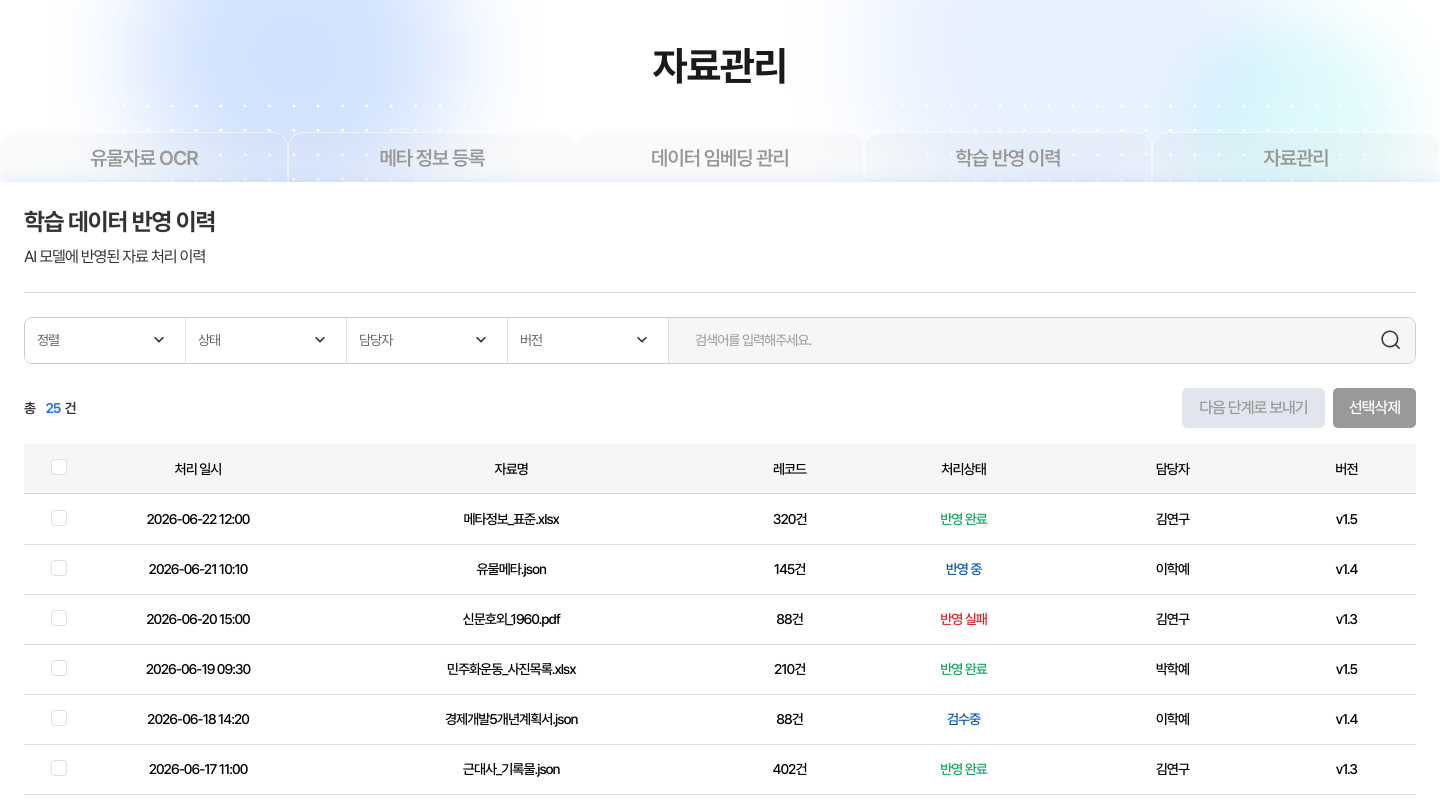
Test: History: 행별 휴지통이 사라지고 툴바 선택삭제로 통합됐다 — 클릭 시 준비중 토스트만(D2a)
Click the checkbox named "선택 l2" at (59, 568), box [51,560,67,576]
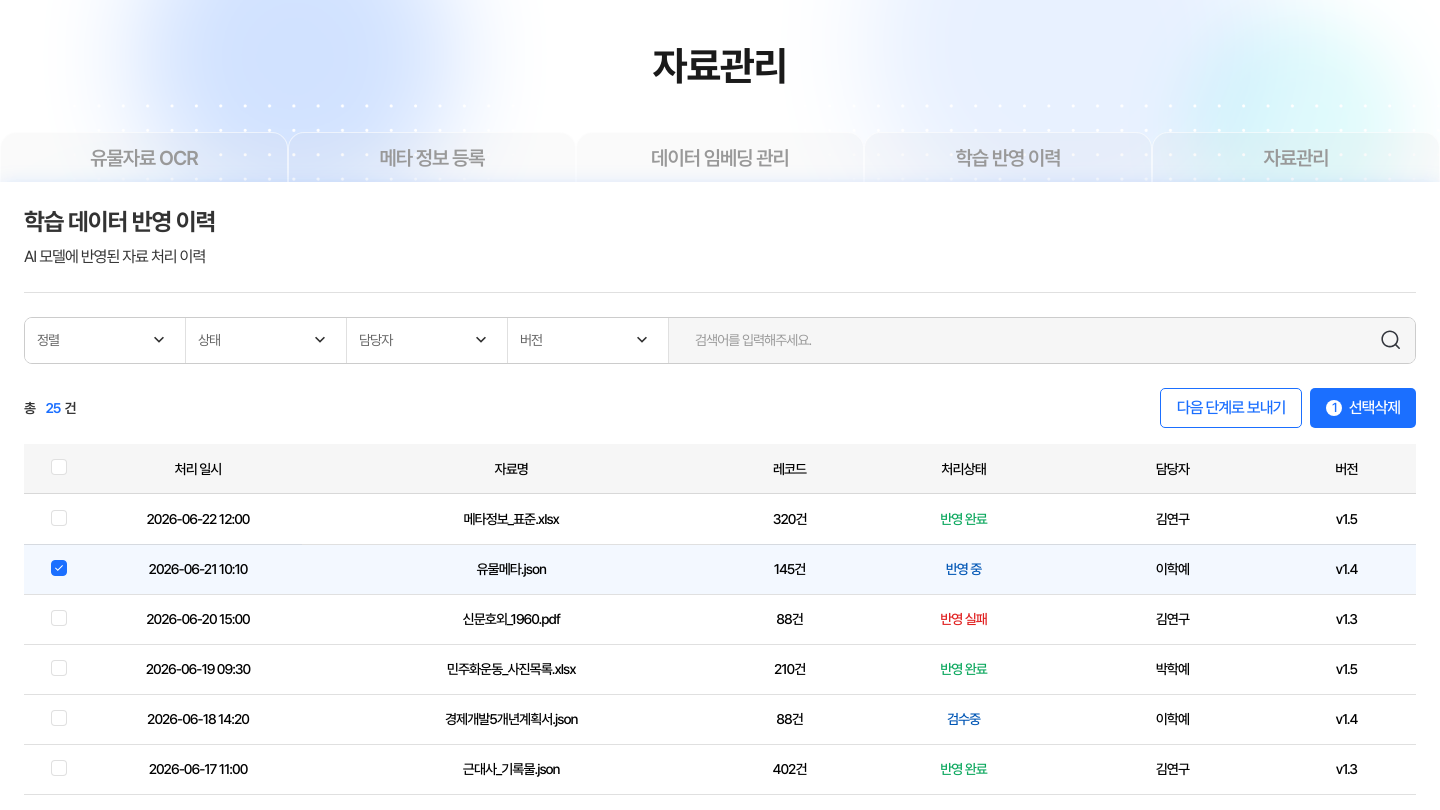
Click the button "1 선택삭제" at (1363, 408), box [1310,388,1416,428]
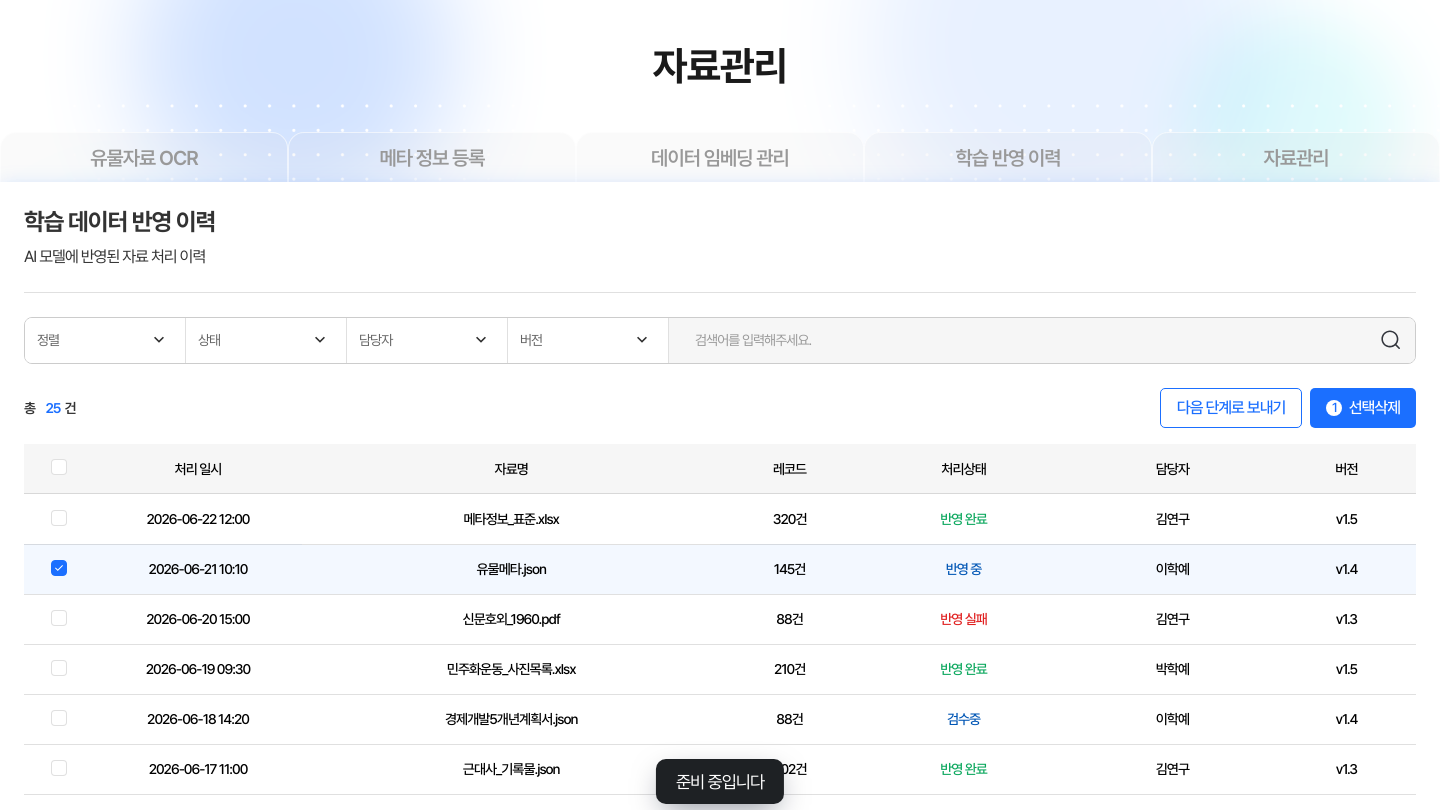
Expected: the text "유물메타.json" is shown, [302,544,720,594]
Now the message reads "준비 중입니다", box [676,771,764,792]
